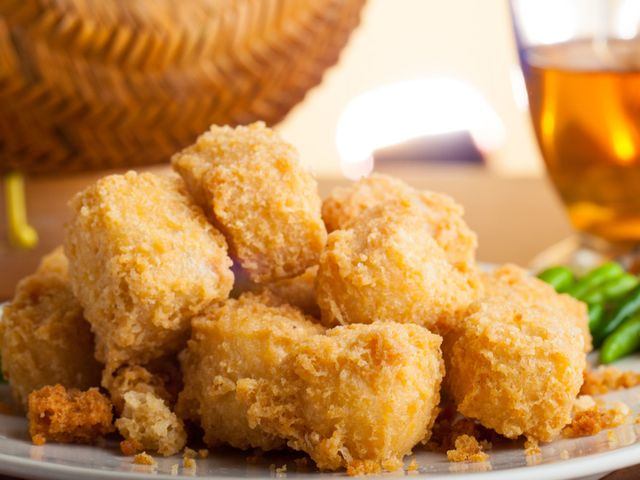Tahu: (184, 134, 328, 293), (79, 174, 216, 325), (173, 298, 325, 425), (458, 277, 585, 409), (324, 328, 459, 417), (337, 212, 464, 303)
